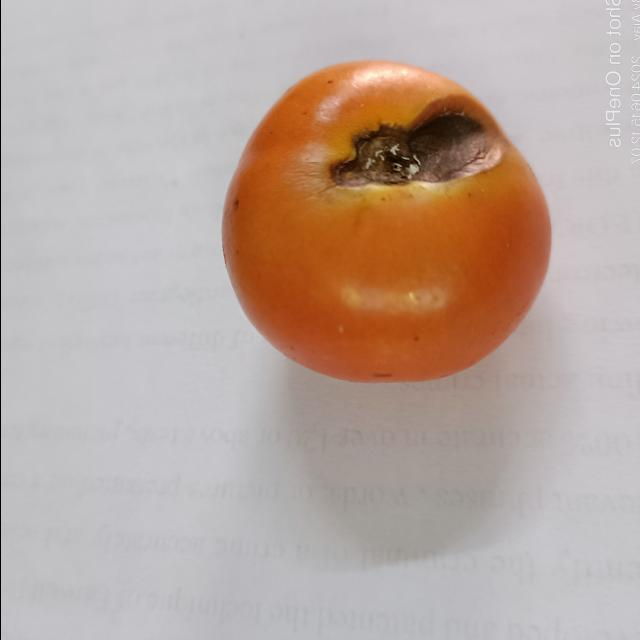Anthrocnose: (319, 94, 502, 192)
